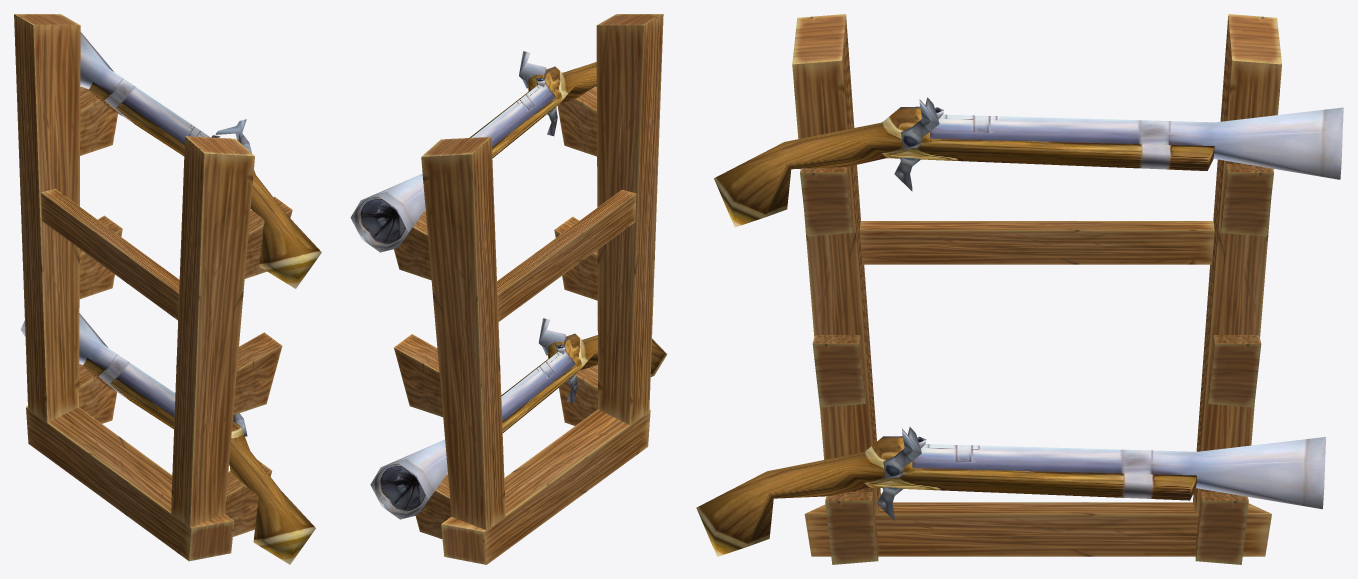
The model's file is gunrack01c.obj.
The picture shows the model from 3 angles, left to right: view 1: azimuth 30°, elevation 25°; view 2: azimuth 150°, elevation 25°; view 3: azimuth 270°, elevation 25°; orthographic projection. The views are drawn at different scales.
Visible parts, largest first — view 1: Geoset0, Geoset1; view 2: Geoset0, Geoset1; view 3: Geoset0, Geoset1.
Boxes of the visible parts, x1,y1,x2,y2 form: Geoset0: (14,14,292,561); Geoset1: (20,32,321,564); Geoset0: (394,14,663,564); Geoset1: (350,51,667,519); Geoset0: (792,14,1281,564); Geoset1: (696,97,1343,556).
Size of the model in its own units: 0.3639 by 1.54 by 1.7.
Materials: 2 (2 with a texture image).
